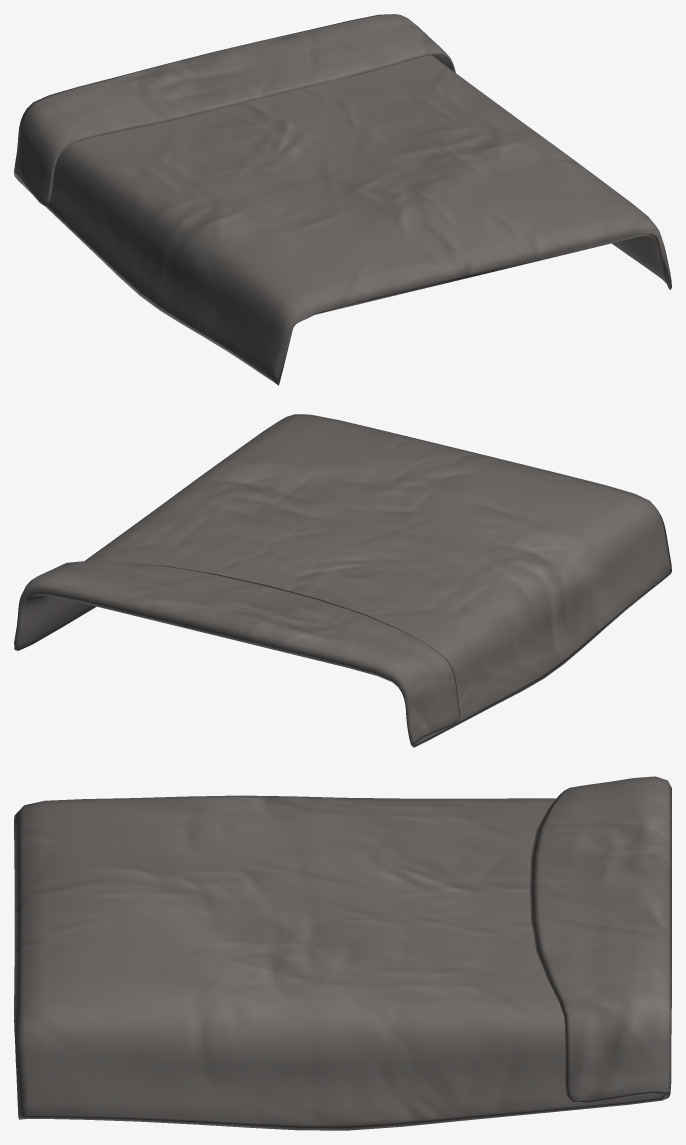
File: eichhorn_2.fbx
The picture shows the model from 3 angles, top to bottom: view 1: azimuth 30°, elevation 25°; view 2: azimuth 150°, elevation 25°; view 3: azimuth 270°, elevation 25°; orthographic projection. The views are drawn at different scales.
Visible parts, largest first — view 1: Eichhorn Platform Bed.003; view 2: Eichhorn Platform Bed.003; view 3: Eichhorn Platform Bed.003.
Boxes of the visible parts, <box> form: Eichhorn Platform Bed.003: <box>14,14,671,385</box>; Eichhorn Platform Bed.003: <box>14,414,671,747</box>; Eichhorn Platform Bed.003: <box>14,776,671,1130</box>.
Bounding box in the file's own units: 1.88 × 0.4555 × 2.07.
